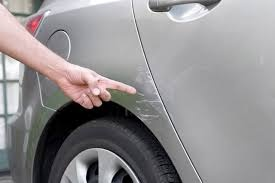Scratch: (133, 69, 162, 126)
